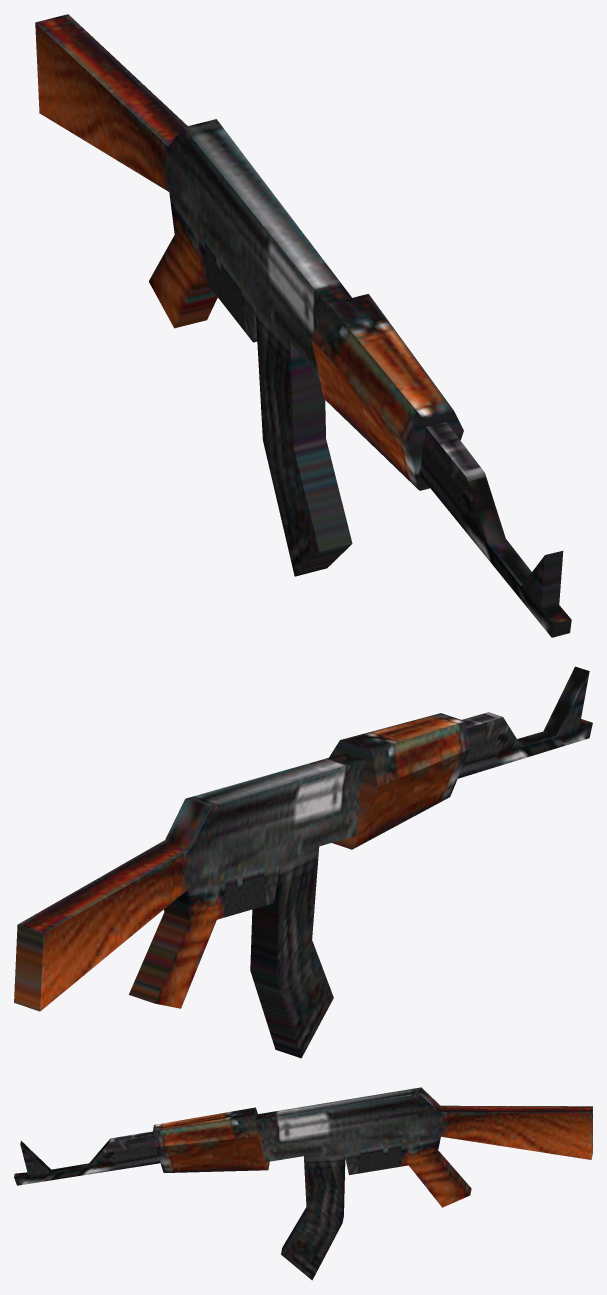
Rendered from ak47-world.glb.
3 renders of one model, top to bottom at view 1: azimuth 30°, elevation 25°; view 2: azimuth 150°, elevation 25°; view 3: azimuth 270°, elevation 25°, orthographic. The views are drawn at different scales.
Parts seen in each view (by area): view 1: ak47 held.001; view 2: ak47 held.001; view 3: ak47 held.001.
Part boxes in pixels (x1,y1,x2,y2): ak47 held.001: (35, 14, 571, 637); ak47 held.001: (14, 666, 592, 1058); ak47 held.001: (14, 1087, 592, 1280).
Size of the model in its own units: 0.0887 by 0.3221 by 0.9067.
Materials: 1 (1 with a texture image).
